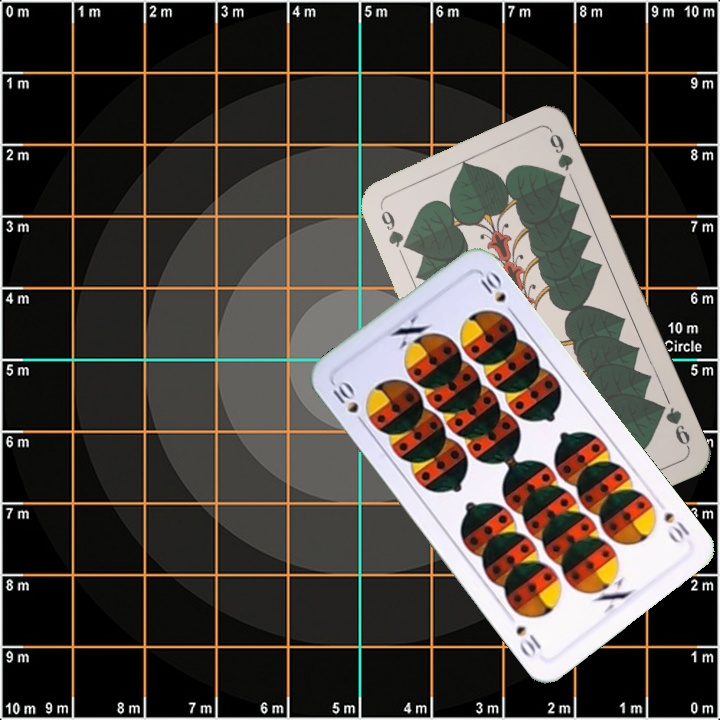G9: (653, 399, 693, 451), (375, 202, 413, 253)
S10: (328, 377, 369, 430), (660, 508, 693, 546)
